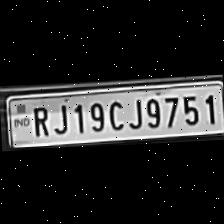1: (200, 88, 220, 124), (68, 99, 86, 134)
5: (178, 90, 200, 126)
7: (160, 92, 178, 126)
9: (84, 98, 106, 132), (141, 94, 161, 128)
C: (104, 96, 124, 130)
J: (49, 99, 69, 135), (124, 94, 142, 128)
R: (28, 102, 51, 136)
